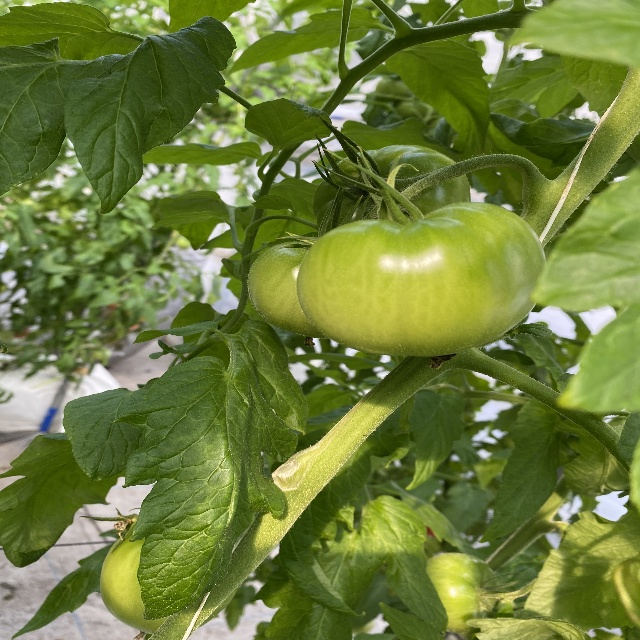b_green: (296, 201, 548, 357), (313, 144, 472, 230), (246, 240, 330, 339), (426, 550, 499, 632)
